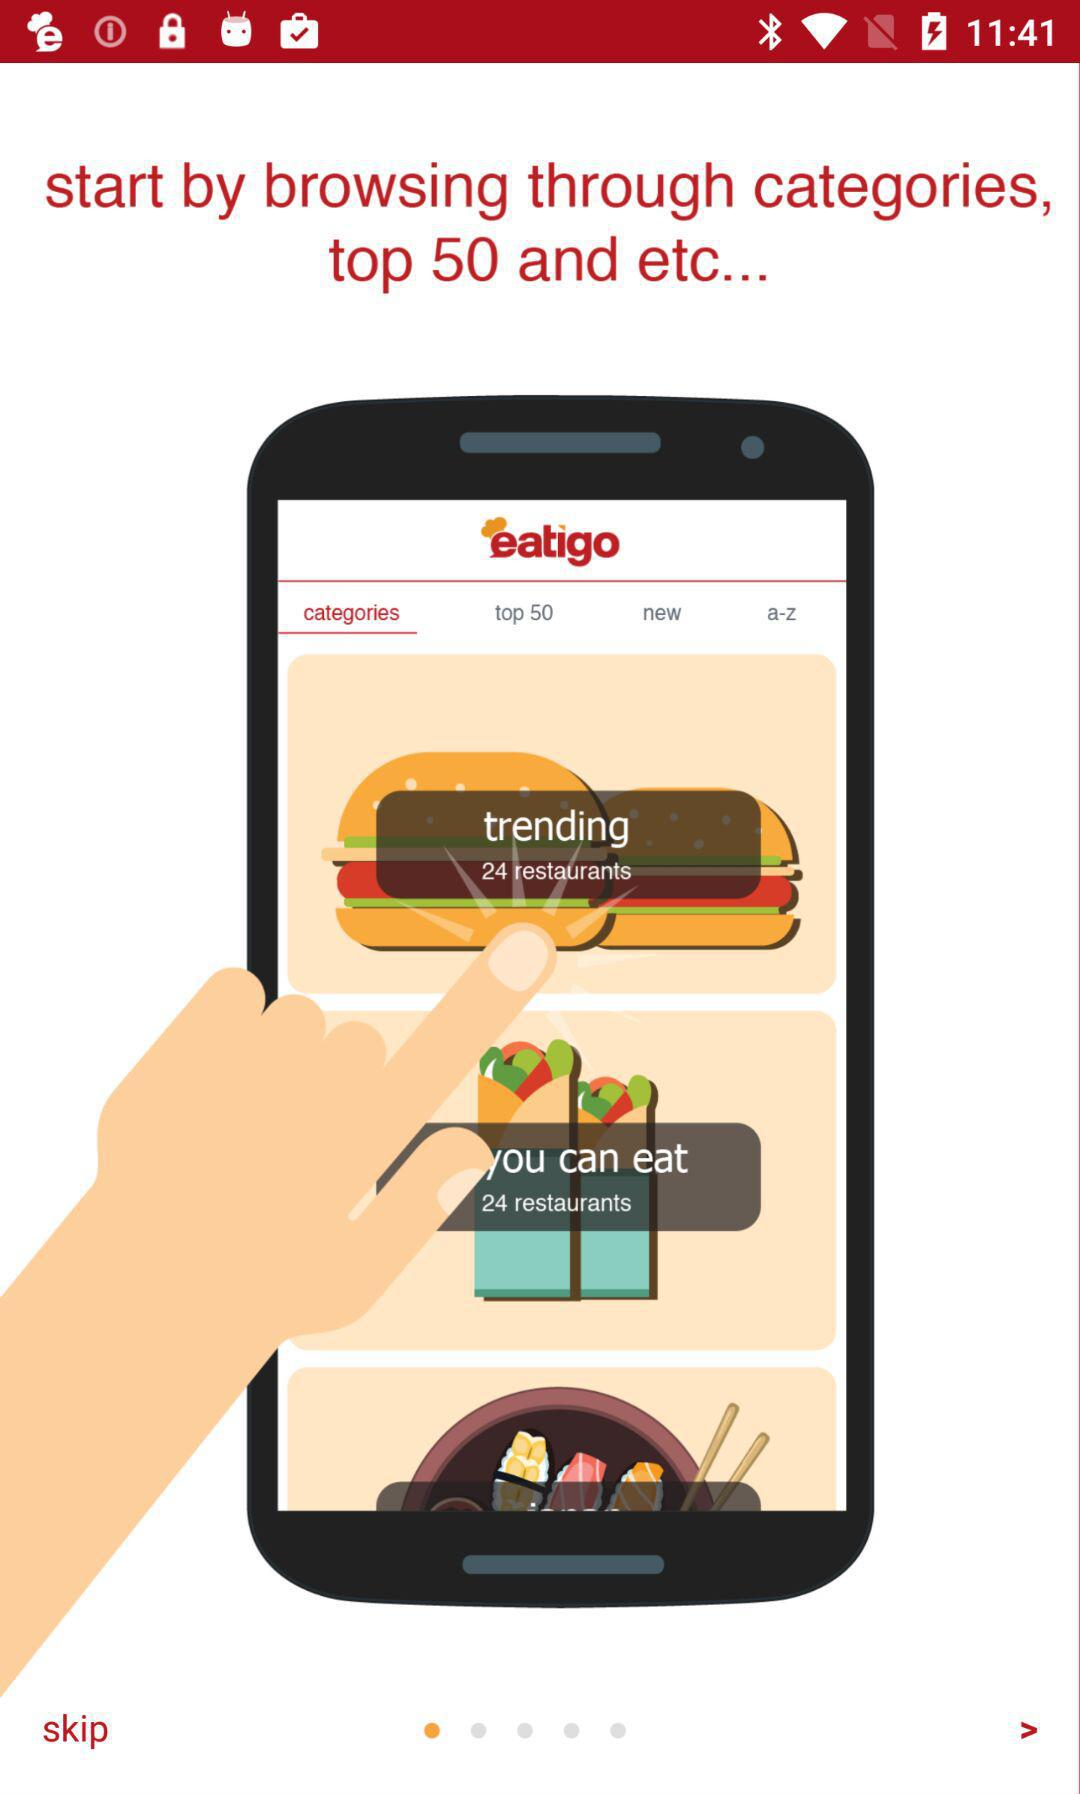Icon: (1020, 1720, 1038, 1740)
Image: (1, 393, 876, 1693)
PageIndicator: (423, 1721, 628, 1740)
Text: (46, 161, 1051, 295), (44, 1713, 109, 1750)
UpperTaskBar: (1, 1, 1080, 64)
